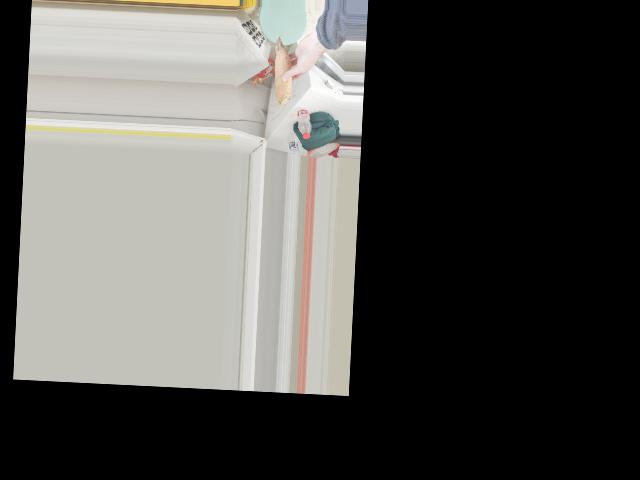sweet_potato: (273, 40, 296, 99)
